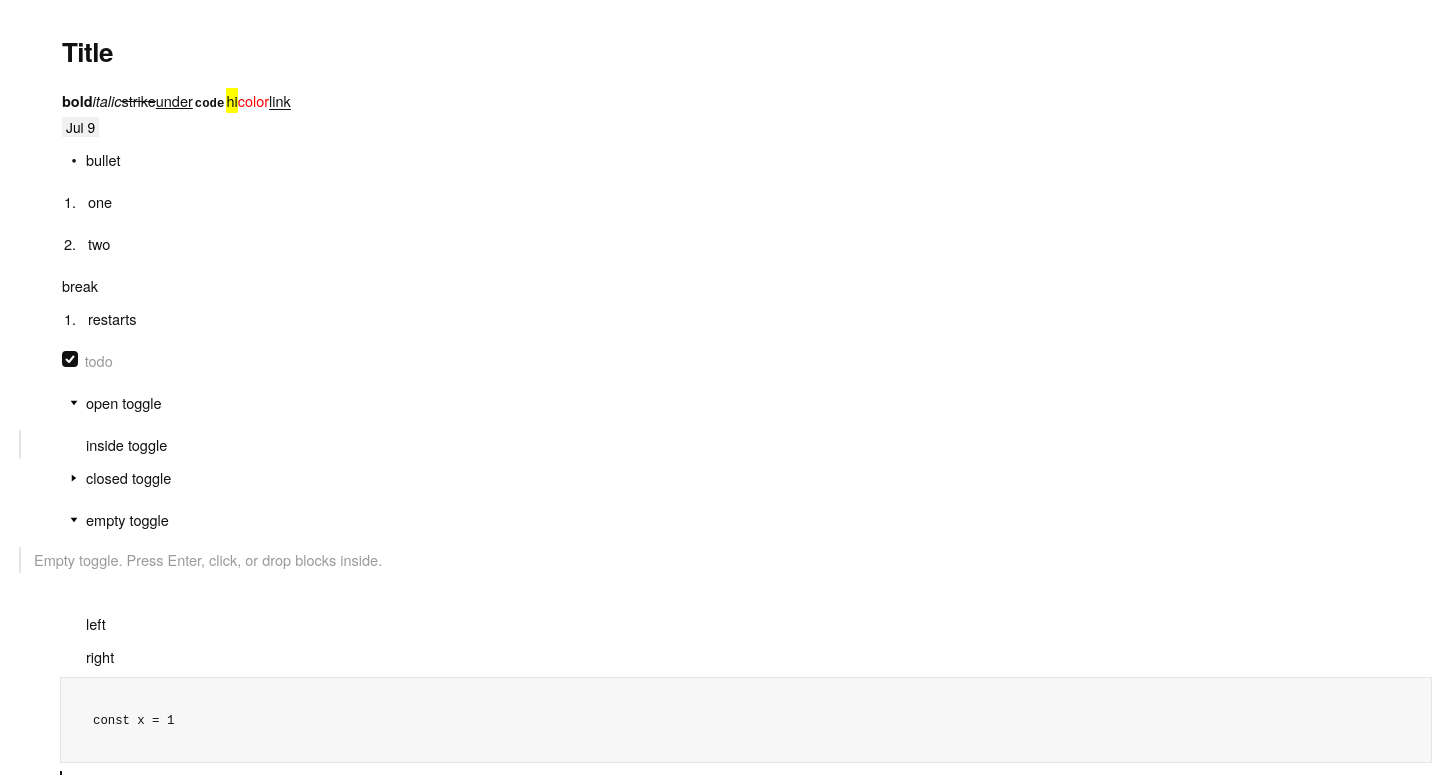
SduiDocumentViewer › as is: rich fixture rendered read-only › when clicking a toggle › to be: children hide/show locally without mutating content
Expected: the text "inside toggle" is shown, [86,434,167,455]
Step 1. Click the button named "Toggle tgl-open" → (74, 403), box [62,391,86,415]
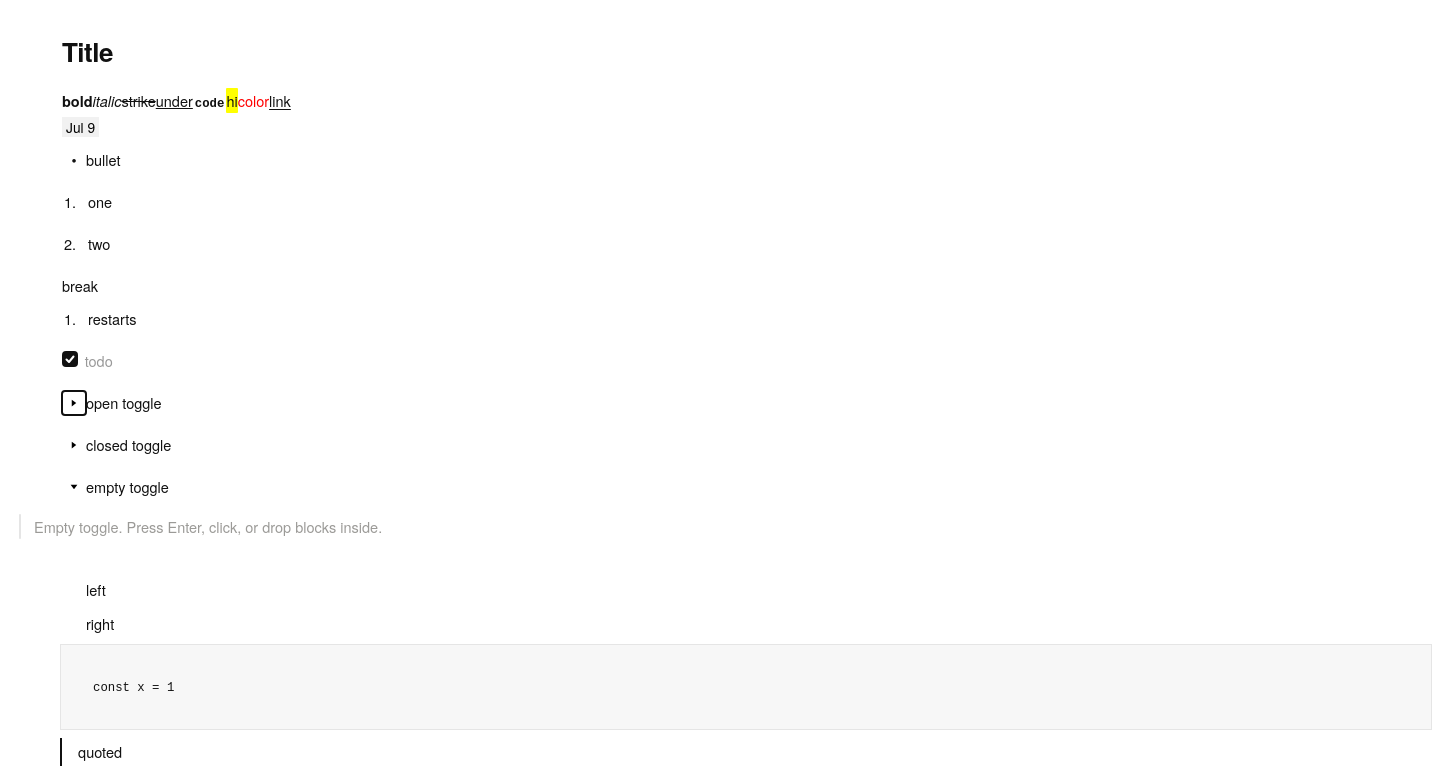
Expected: the text "inside toggle" is gone
